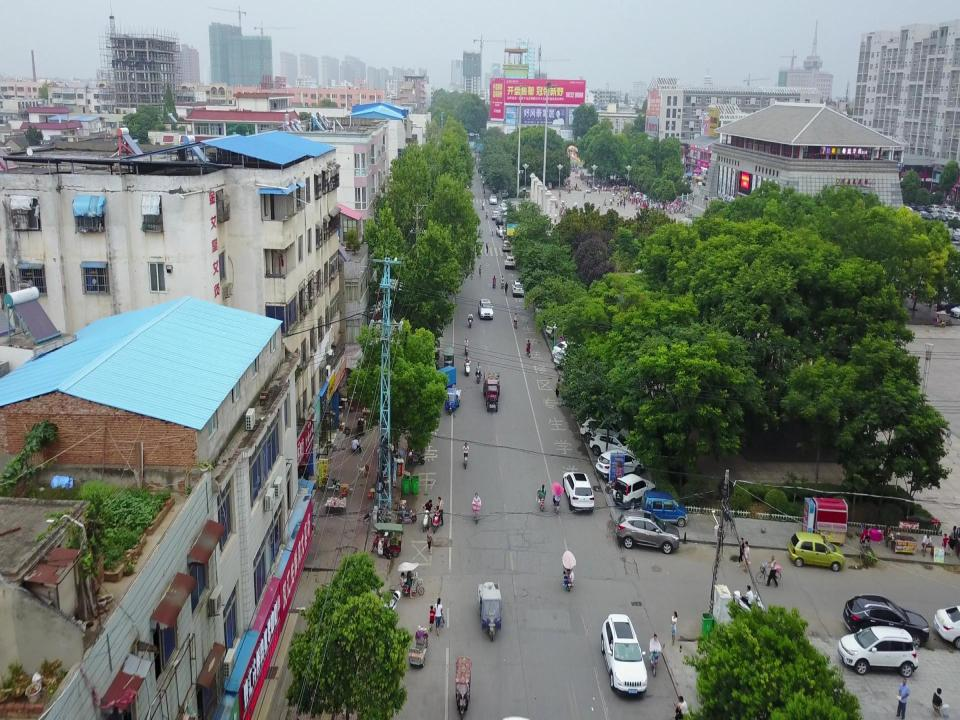car: (846, 596, 930, 648), (838, 624, 918, 678), (600, 614, 648, 694), (616, 509, 680, 552), (788, 531, 846, 573), (643, 494, 687, 528), (598, 445, 646, 476), (613, 473, 655, 508), (582, 416, 630, 446), (591, 428, 639, 457), (933, 603, 960, 651), (563, 470, 595, 510), (553, 338, 585, 359), (554, 349, 589, 366), (545, 317, 571, 336), (478, 299, 494, 319), (511, 280, 525, 297), (504, 256, 516, 269), (496, 224, 508, 236), (501, 239, 511, 251), (499, 204, 509, 214), (492, 186, 502, 194), (492, 210, 500, 220), (495, 217, 503, 224), (501, 200, 508, 207), (490, 195, 496, 203)
truck: (482, 370, 500, 412), (429, 365, 457, 390)
van: (497, 189, 509, 199)
